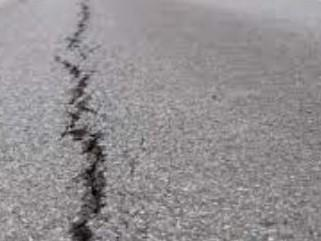crack: (50, 0, 112, 241)
